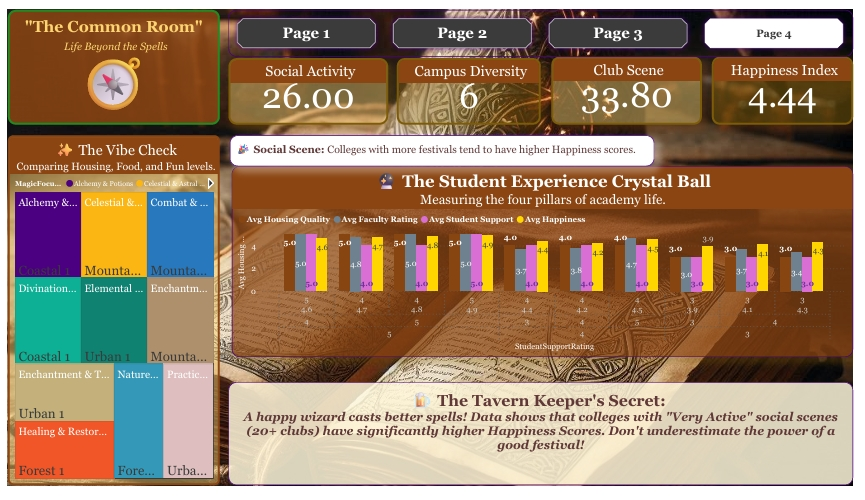

This screenshot's page, from the dashboard's own definition file:
{"tool":"powerbi","page":{"name":"Page 4","canvas":[1280,720],"ordinal":3},"visuals":[{"type":"card","title":"Happiness Index","fields":{"Values":["College_Profiles.Avg Happiness"]},"box":[1065.7,71.4,214.3,102.9],"z":0},{"type":"card","title":"Social Activity","fields":{"Values":["College_Profiles.Avg Campus Events"]},"box":[334.3,72.9,241.4,101.4],"z":1000},{"type":"card","title":"Campus Diversity","fields":{"Values":["College_Profiles.Diverse Colleges"]},"box":[588.6,72.9,218.6,101.4],"z":2000},{"type":"clusteredColumnChart","title":"🔮 The Student Experience Crystal Ball","fields":{"Category":["College_Profiles.HousingQuality","College_Profiles.FacilitiesRating","College_Profiles.OverallHappiness","College_Profiles.StudentSupportRating"],"Y":["College_Profiles.Avg Housing Quality","College_Profiles.Avg Faculty Rating","College_Profiles.Avg Student Support","College_Profiles.Avg Happiness"]},"box":[338.6,237.1,941.4,288.6],"z":3000},{"type":"treemap","title":"✨ The Vibe Check","fields":{"Group":["College_Profiles.MagicFocusArea"],"Details":["College_Profiles.CampusType"],"Values":["CountNonNull(College_Profiles.MagicScore)"]},"box":[0,190,321.4,530],"z":4000},{"type":"textbox","box":[0,0,321.4,174.3],"z":5000},{"type":"card","title":"Club Scene","fields":{"Values":["College_Profiles.Avg Clubs"]},"box":[822.9,71.4,228.6,102.9],"z":6000},{"type":"textbox","box":[335.7,190,642.9,47.1],"z":7000},{"type":"textbox","box":[334.3,564.3,945.7,155.7],"z":8000},{"type":"pageNavigator","box":[334.3,0,945.7,71.4],"z":9000},{"type":"textbox","box":[0,48.6,321.4,125.7],"z":10000}]}

Visuals, with their boxes in screenshot pixels (x1, y1, x2, y2), scaled from the page's 1280x720 canvas onto the 865x500 screenshot:
"Happiness Index" card: x1=720, y1=50, x2=864, y2=121
"Social Activity" card: x1=226, y1=51, x2=389, y2=121
"Campus Diversity" card: x1=398, y1=51, x2=545, y2=121
"🔮 The Student Experience Crystal Ball" clusteredColumnChart: x1=229, y1=165, x2=864, y2=365
"✨ The Vibe Check" treemap: x1=0, y1=132, x2=217, y2=499
textbox: x1=0, y1=0, x2=217, y2=121
"Club Scene" card: x1=556, y1=50, x2=711, y2=121
textbox: x1=227, y1=132, x2=661, y2=165
textbox: x1=226, y1=392, x2=864, y2=499
pageNavigator: x1=226, y1=0, x2=864, y2=50
textbox: x1=0, y1=34, x2=217, y2=121
